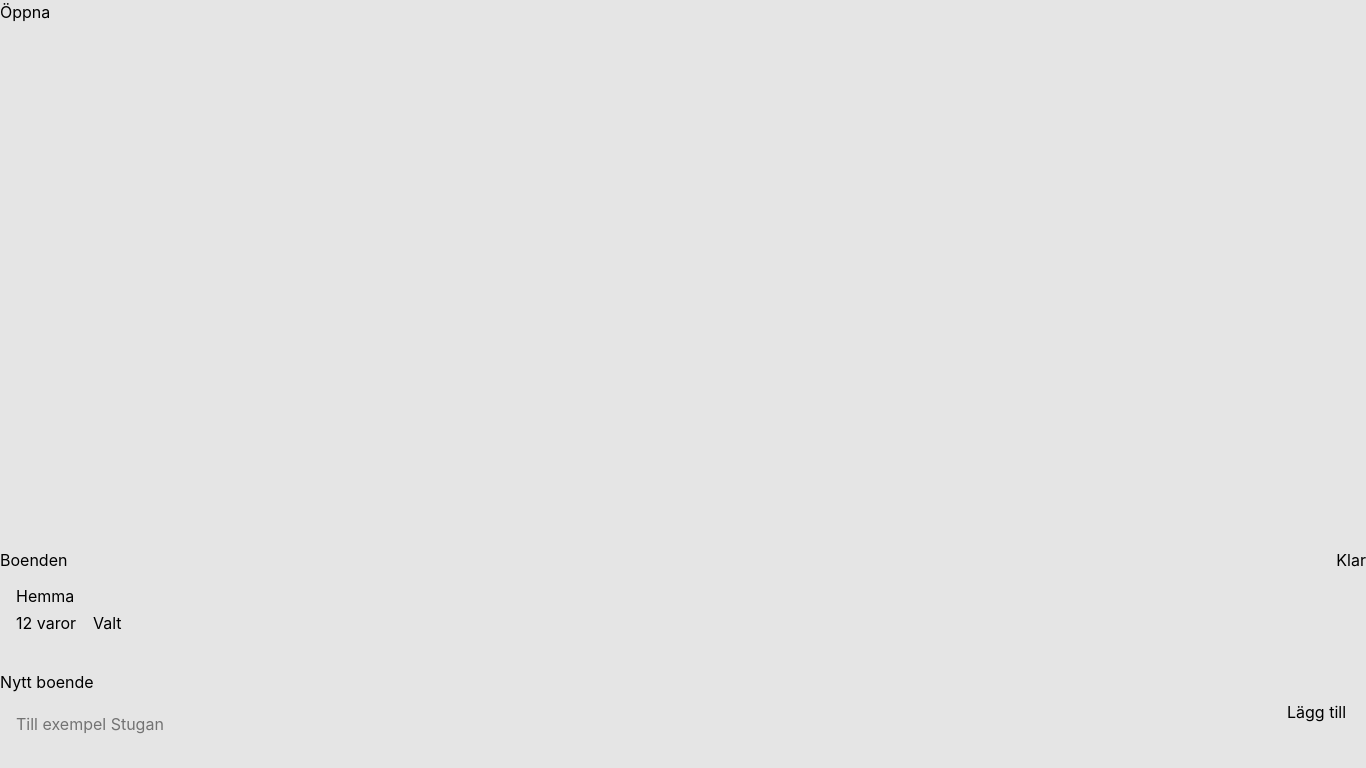
SitesSheet › refuses  under the field, without saving
This screenshot has width=1366, height=768.
What coordinates should you click on to do the following:
click the button "Lägg till"
I would click on:
 (1316, 712)
Its box is left=1267, top=700, right=1365, bottom=724.
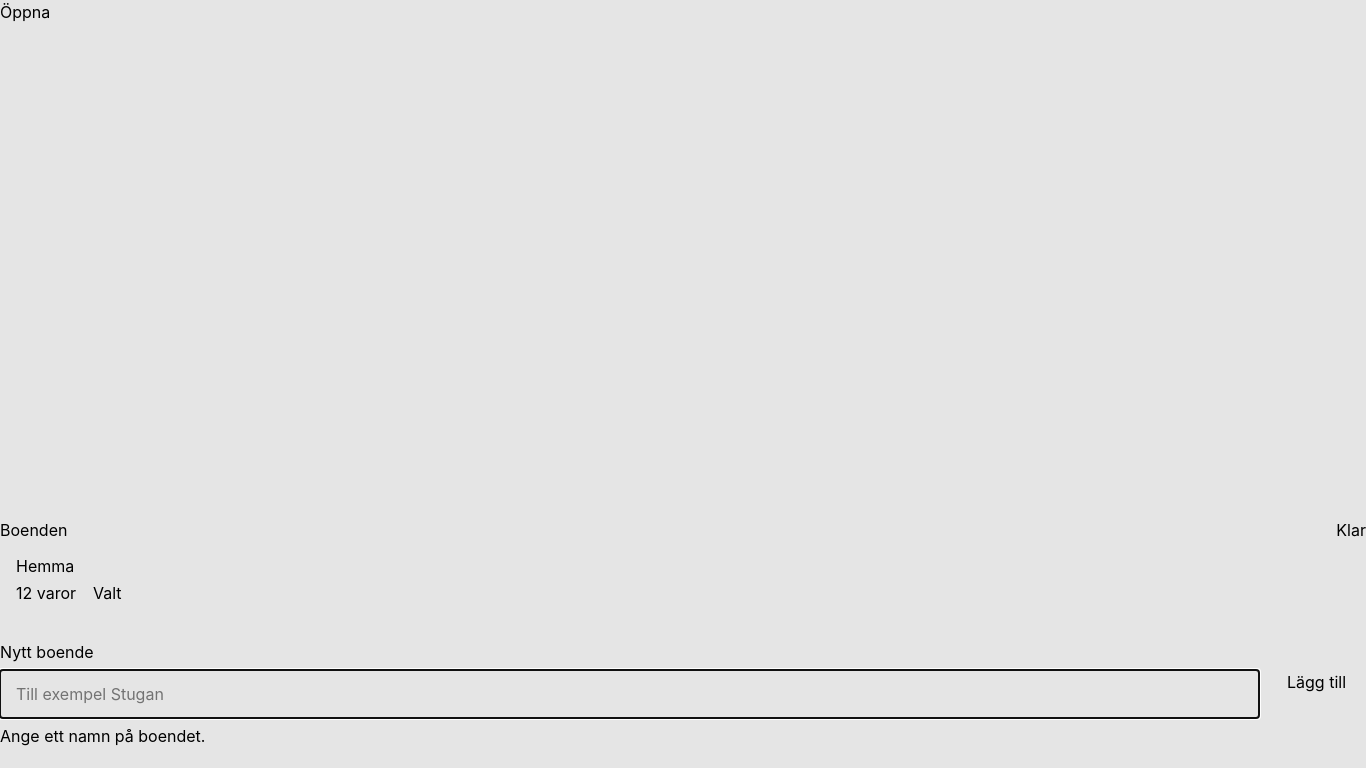
Result: the text "Ange ett namn på boendet." is shown at left=0, top=726, right=205, bottom=746
